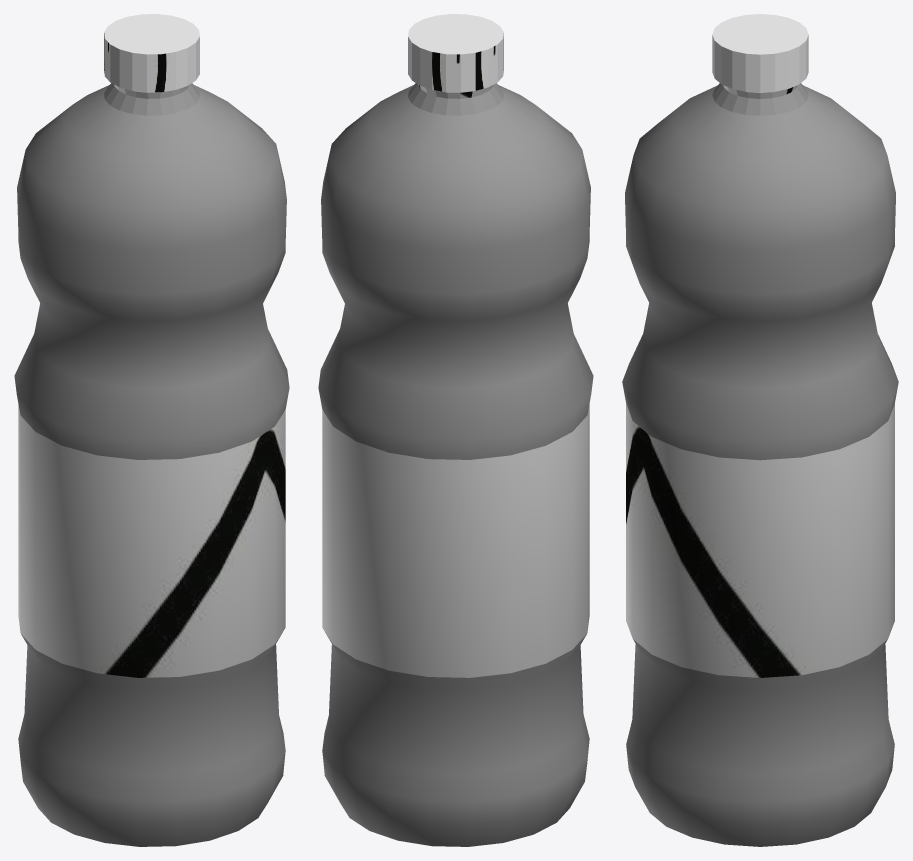
File: Water bottle 1.FBX
The picture shows the model from 3 angles, left to right: view 1: azimuth 30°, elevation 25°; view 2: azimuth 150°, elevation 25°; view 3: azimuth 270°, elevation 25°; orthographic projection.
Visible parts, largest first — view 1: water bottle 1; view 2: water bottle 1; view 3: water bottle 1.
Boxes of the visible parts, <box> form: water bottle 1: <box>14,14,289,846</box>; water bottle 1: <box>318,14,593,846</box>; water bottle 1: <box>622,14,898,846</box>.
Bounding box in the file's own units: 10.11 × 30.8 × 10.11.
